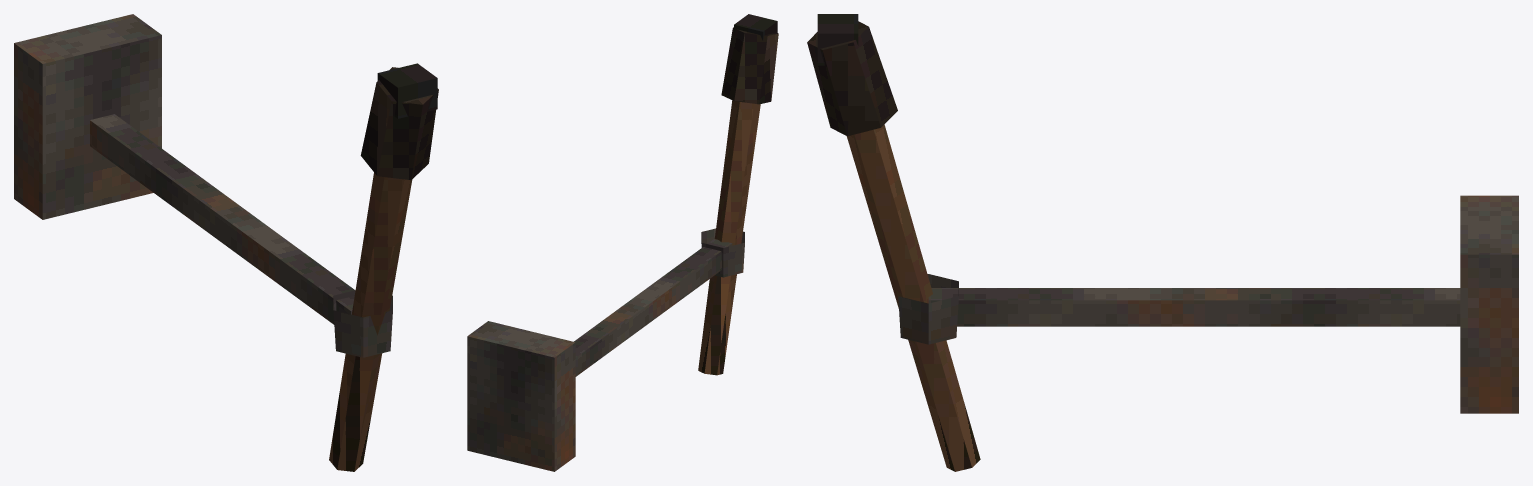
File: antorcha_pared.obj
3 renders of one model, left to right at view 1: azimuth 30°, elevation 25°; view 2: azimuth 150°, elevation 25°; view 3: azimuth 270°, elevation 25°, orthographic. The views are drawn at different scales.
Visible parts, largest first — view 1: antorcha_pared; view 2: antorcha_pared; view 3: antorcha_pared.
Boxes of the visible parts, x1,y1,x2,y2 form: antorcha_pared: (14,14,438,471); antorcha_pared: (467,14,778,471); antorcha_pared: (807,14,1518,471).
Size of the model in its own units: 0.24 by 0.8377 by 1.22.
Materials: 4 (4 with a texture image).
